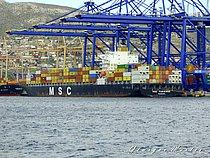Ship: (17, 43, 189, 104)
